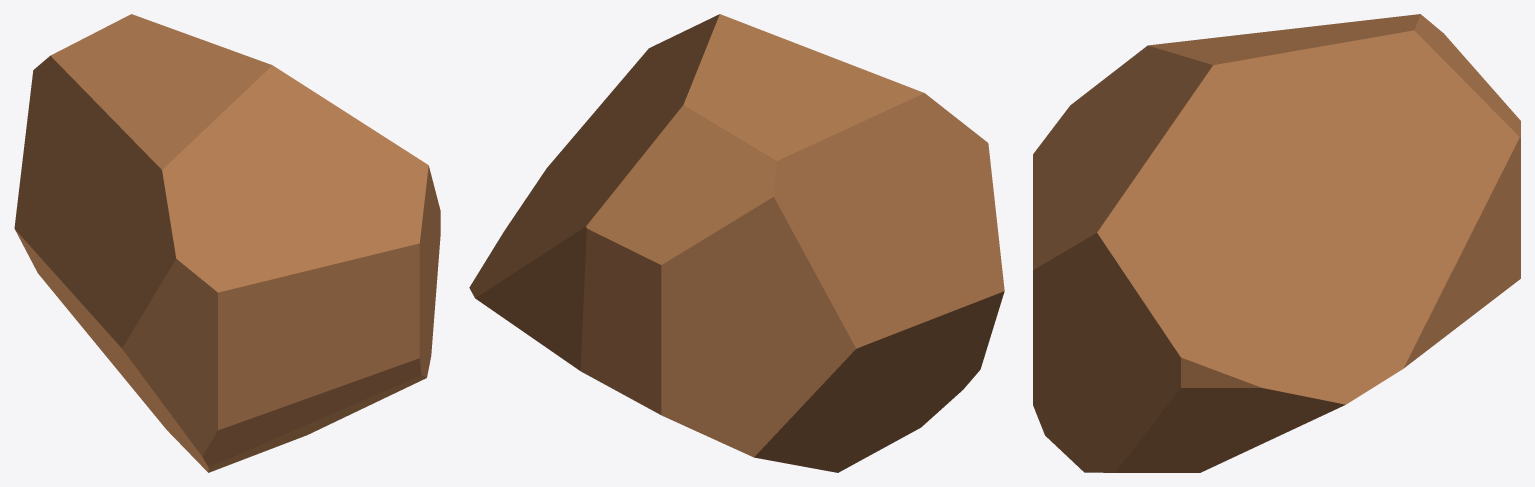
Rendered from Piedra mediana 2.fbx.
The picture shows the model from 3 angles, left to right: view 1: azimuth 30°, elevation 25°; view 2: azimuth 150°, elevation 25°; view 3: azimuth 270°, elevation 25°; orthographic projection. The views are drawn at different scales.
Visible parts, largest first — view 1: Piedra 2; view 2: Piedra 2; view 3: Piedra 2.
Boxes of the visible parts, bbox=[...] form: Piedra 2: bbox=[14, 14, 440, 472]; Piedra 2: bbox=[469, 14, 1004, 472]; Piedra 2: bbox=[1033, 14, 1520, 472].
Size of the model in its own units: 2.77 by 2.66 by 2.88.
